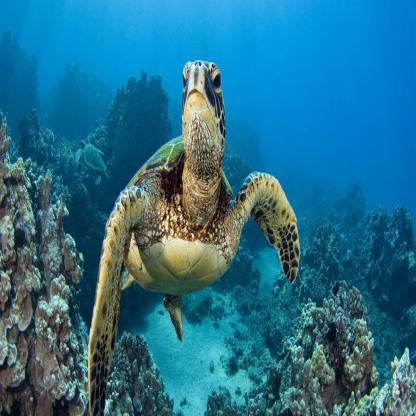turtle: (177, 53, 229, 179)
